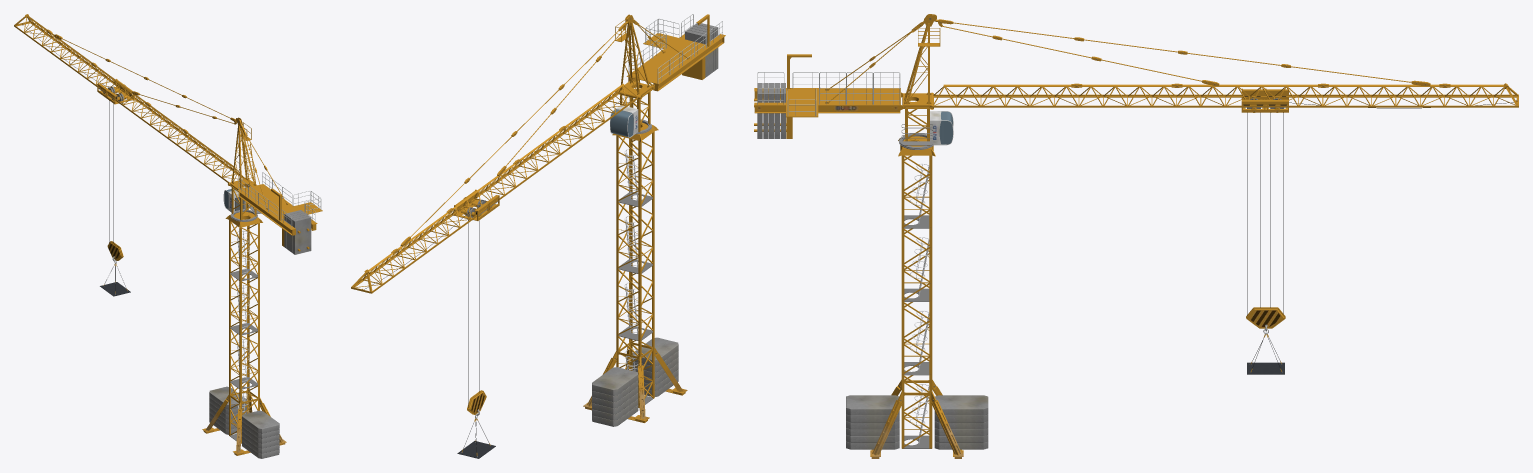
Rendered from crane.glb.
The picture shows the model from 3 angles, left to right: view 1: azimuth 30°, elevation 25°; view 2: azimuth 150°, elevation 25°; view 3: azimuth 270°, elevation 25°; orthographic projection. The views are drawn at different scales.
Visible parts, largest first — view 1: plateforme-haut, corps-haut-3, corps-haut-1, corps-haut-2, corps-top, poulie, haut-jaune, Box151, Box416, cables-haut, L-Ext044, L-Ext045 (+9 smaller); view 2: plateforme-haut, corps-haut-3, corps-haut-1, corps-haut-2, corps-top, poulie, Box422, haut-jaune, L-Ext044, L-Ext045, plateforme, L-Ext046 (+10 smaller); view 3: corps-haut-3, plateforme-haut, corps-haut-1, corps-haut-2, poulie, cables-haut, haut-jaune, plateforme, Box422, Box416, corps-top, attaches-haut (+1 smaller).
Part boxes in pixels (x1,y1,x2,y2): plateforme-haut: (237, 184, 322, 229); corps-haut-3: (14, 16, 174, 131); corps-haut-1: (158, 120, 245, 182); corps-haut-2: (14, 15, 102, 78); corps-top: (231, 124, 256, 219); poulie: (22, 23, 134, 242); haut-jaune: (225, 122, 262, 228); Box151: (293, 216, 311, 254); Box416: (242, 410, 279, 433); cables-haut: (61, 38, 286, 206); L-Ext044: (229, 327, 259, 389); L-Ext045: (229, 273, 259, 335); plateforme-haut: (626, 14, 725, 84); corps-haut-3: (351, 141, 549, 293); corps-haut-1: (529, 83, 637, 162); corps-haut-2: (354, 214, 460, 293); corps-top: (620, 20, 650, 131); poulie: (362, 189, 499, 407); Box422: (592, 367, 638, 395); haut-jaune: (612, 19, 658, 142); L-Ext044: (616, 263, 654, 341); L-Ext045: (616, 196, 654, 274); plateforme: (628, 37, 724, 91); L-Ext046: (616, 131, 654, 207); corps-haut-3: (1116, 84, 1518, 107); plateforme-haut: (754, 54, 900, 117); corps-haut-1: (933, 84, 1128, 107); corps-haut-2: (1322, 84, 1518, 107); poulie: (1241, 88, 1517, 314); cables-haut: (828, 22, 1411, 102); haut-jaune: (898, 28, 940, 156); plateforme: (754, 91, 900, 138); Box422: (934, 395, 988, 415); Box416: (846, 395, 899, 415); corps-top: (905, 22, 933, 145); attaches-haut: (869, 14, 1508, 88).
Size of the model in its own units: 5.72 by 31.24 by 50.56.
Materials: 24 (20 with a texture image).
